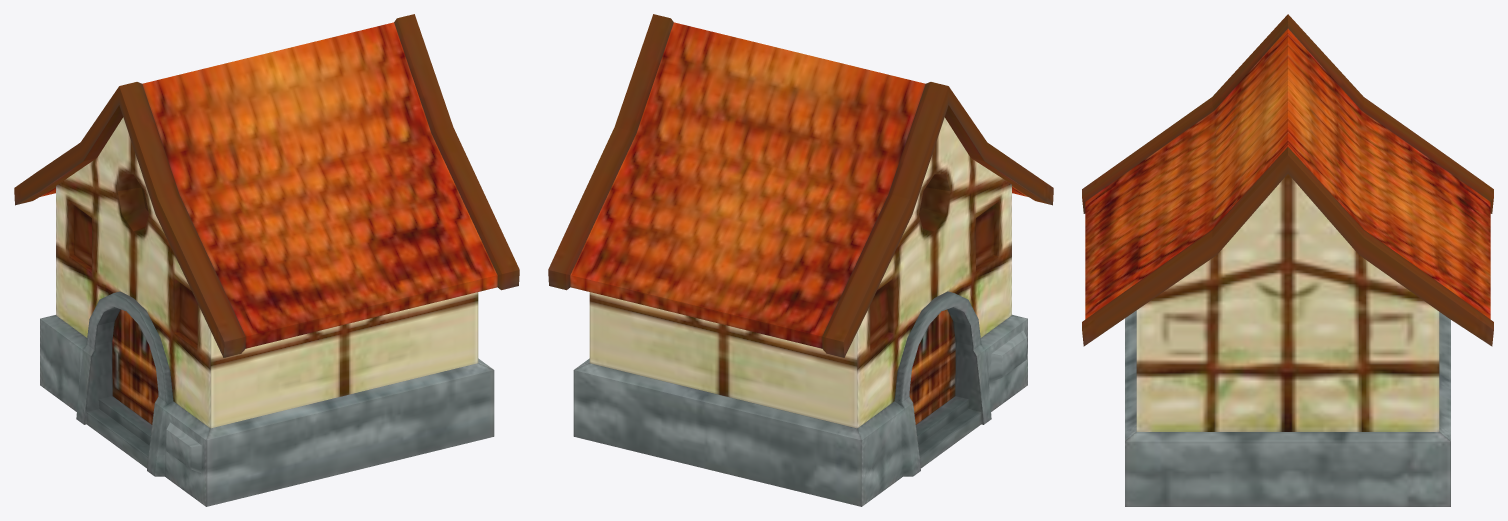
Rendered from free_medieval_house.glb.
The picture shows the model from 3 angles, left to right: view 1: azimuth 30°, elevation 25°; view 2: azimuth 150°, elevation 25°; view 3: azimuth 270°, elevation 25°; orthographic projection. The views are drawn at different scales.
Visible parts, largest first — view 1: free_medieval_house; view 2: free_medieval_house; view 3: free_medieval_house.
Boxes of the visible parts, x1,y1,x2,y2 form: free_medieval_house: (14,14,519,506); free_medieval_house: (548,14,1053,506); free_medieval_house: (1082,14,1493,506).
Size of the model in its own units: 2.59 by 2.99 by 3.16.
Materials: 1 (1 with a texture image).
